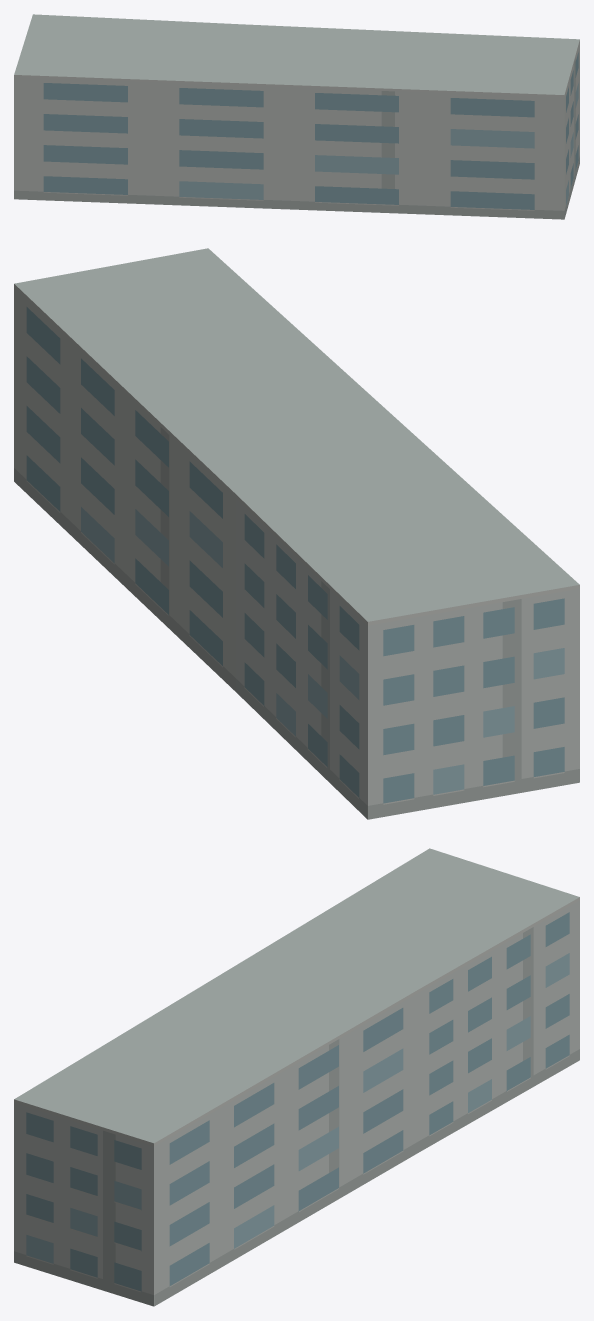
The model's file is residential-413022bc-a45b-4477-b7ac-8afd18a92af4.glb.
3 views of the same model, one above another, from view 1: azimuth 30°, elevation 25°; view 2: azimuth 150°, elevation 25°; view 3: azimuth 270°, elevation 25° (orthographic). The views are drawn at different scales.
Visible parts, largest first — view 1: residential-413022bc-a45b-4477-b7ac-8afd18a92af4.tmp; view 2: residential-413022bc-a45b-4477-b7ac-8afd18a92af4.tmp; view 3: residential-413022bc-a45b-4477-b7ac-8afd18a92af4.tmp.
Boxes of the visible parts, bbox=[...] form: residential-413022bc-a45b-4477-b7ac-8afd18a92af4.tmp: bbox=[14, 14, 579, 219]; residential-413022bc-a45b-4477-b7ac-8afd18a92af4.tmp: bbox=[14, 248, 579, 819]; residential-413022bc-a45b-4477-b7ac-8afd18a92af4.tmp: bbox=[14, 848, 579, 1306].
Bounding box in the file's own units: 47.29 × 12.2 × 38.34.
